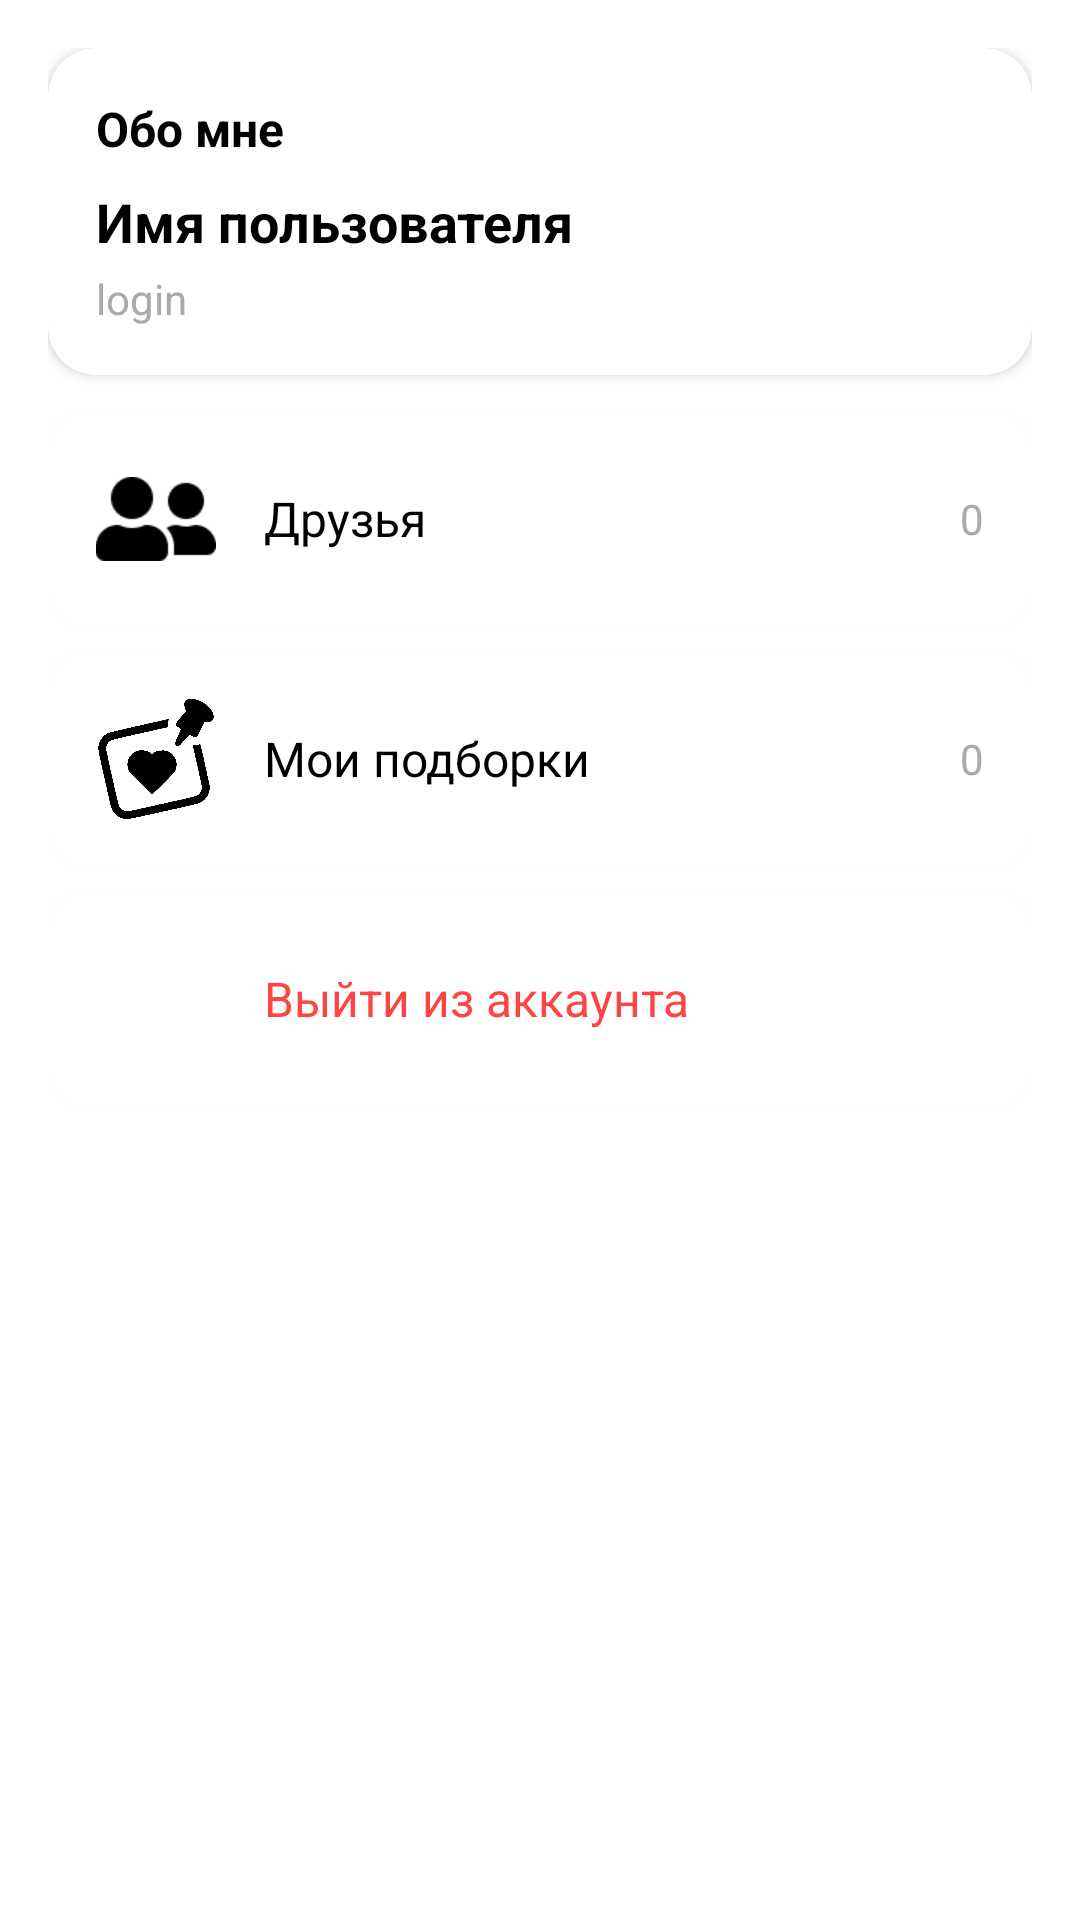

Where icons sit on this 1080 x 1920 app screen, as [x1=x1, y1=y1, x2=x2, y2=y2]:
collections: [x1=98, y1=699, x2=214, y2=819]
friends: [x1=96, y1=477, x2=216, y2=561]
